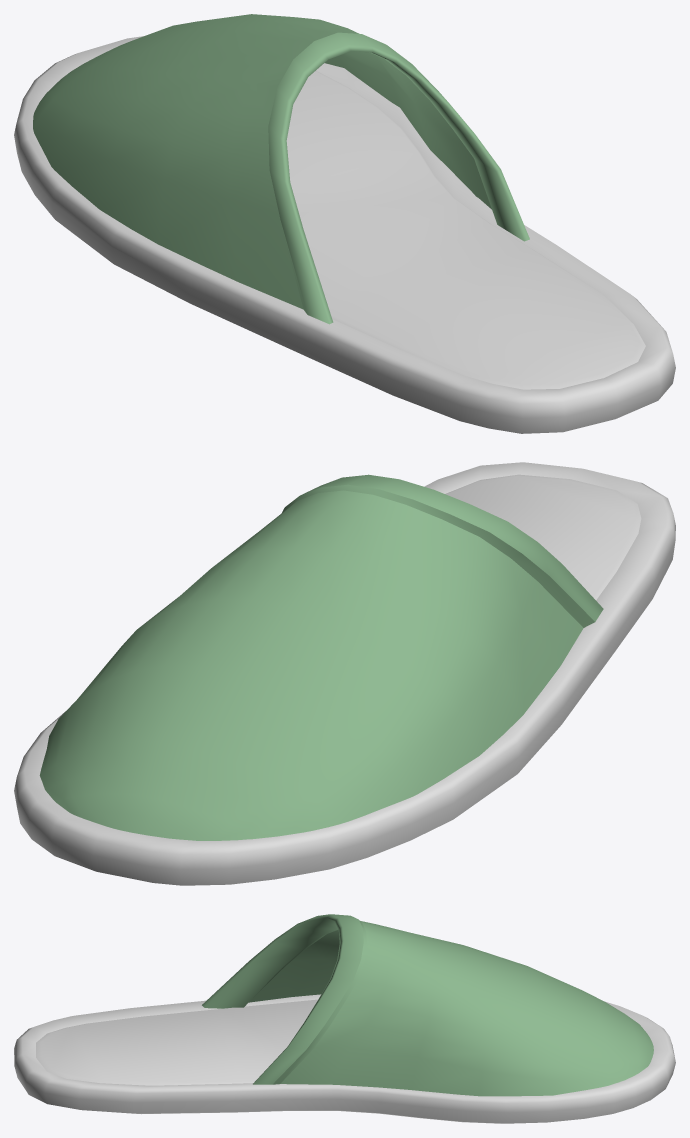
The model's file is Slipper.fbx.
The picture shows the model from 3 angles, top to bottom: view 1: azimuth 30°, elevation 25°; view 2: azimuth 150°, elevation 25°; view 3: azimuth 270°, elevation 25°; orthographic projection. The views are drawn at different scales.
Parts seen in each view (by area): view 1: Slipper; view 2: Slipper; view 3: Slipper.
Boxes of the visible parts, x1,y1,x2,y2 form: Slipper: (14,14,675,433); Slipper: (14,462,675,885); Slipper: (14,914,675,1123).
Size of the model in its own units: 51.79 by 28.89 by 121.
